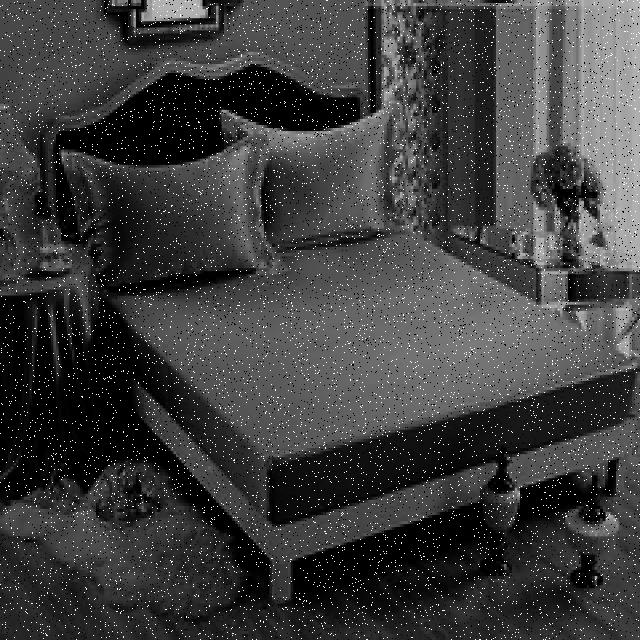bed: (60, 114, 639, 456)
